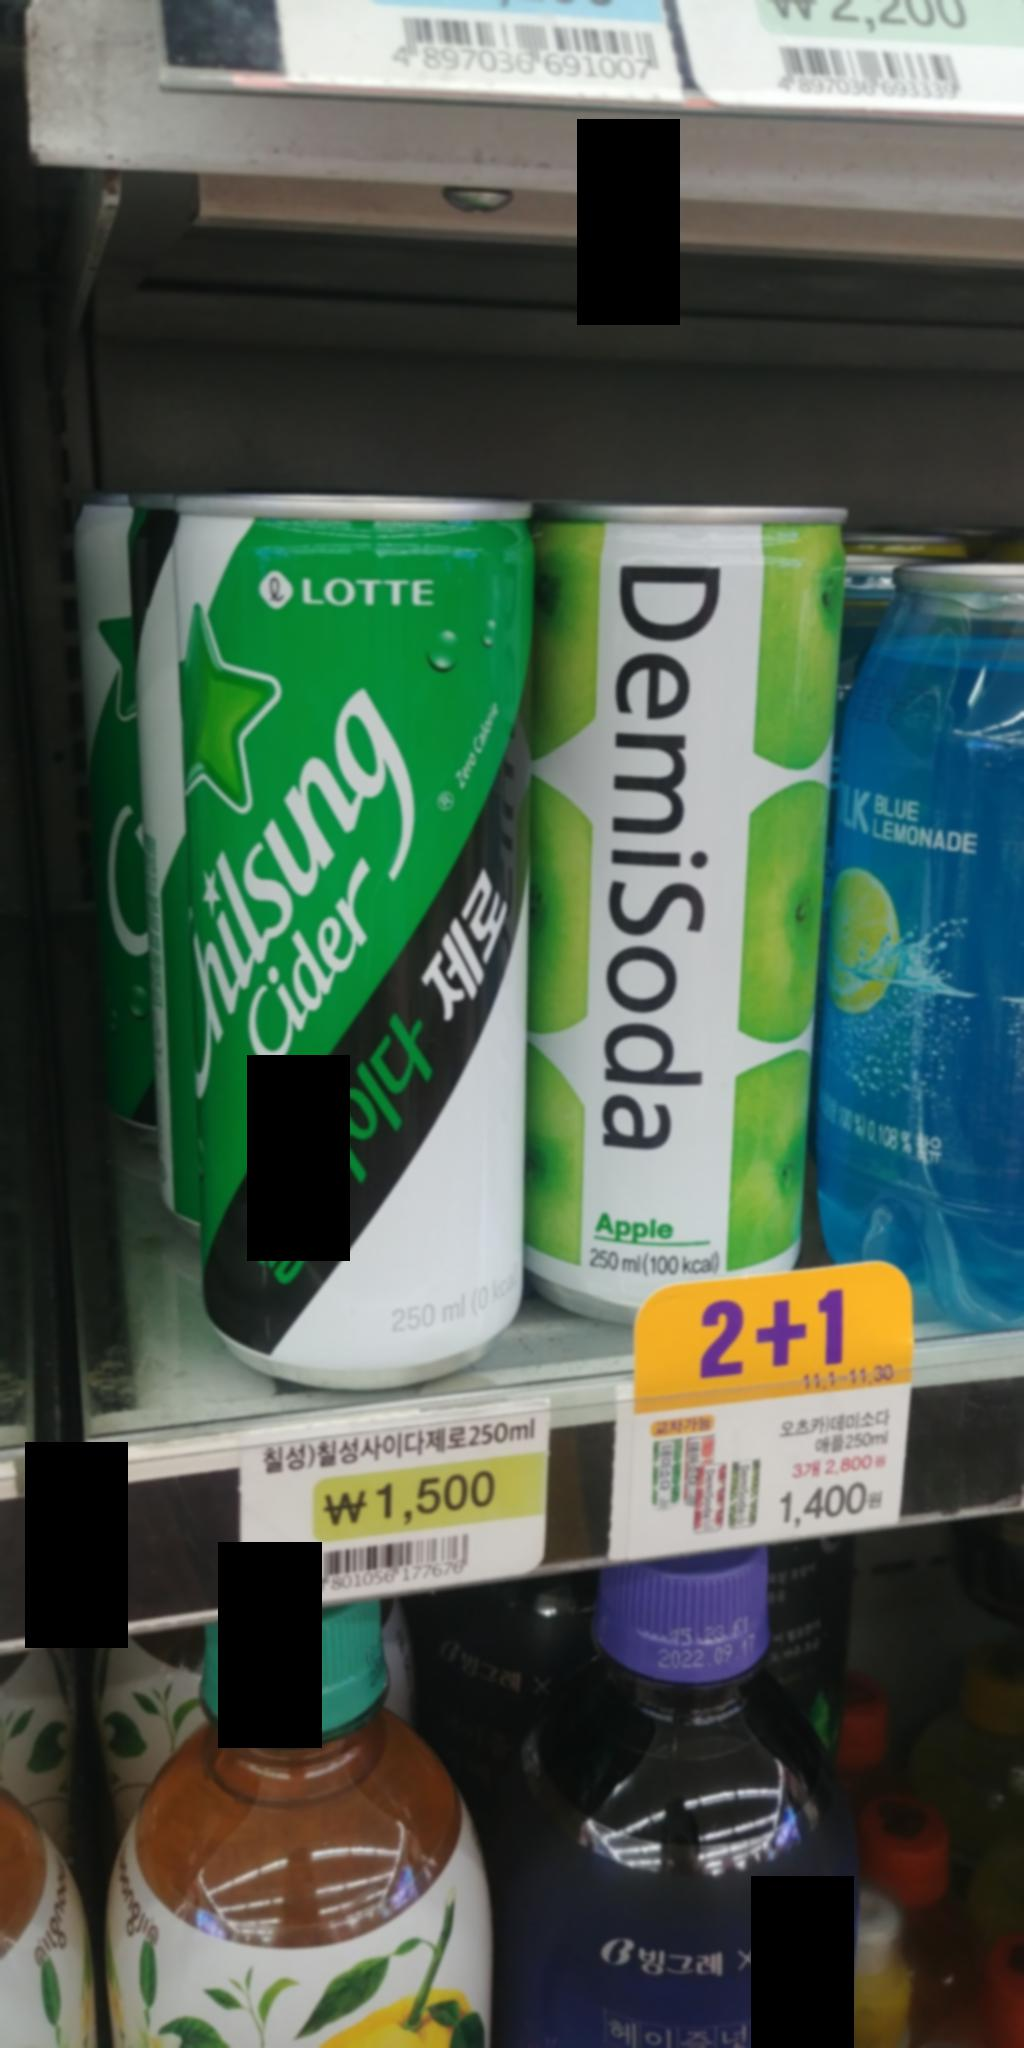chilsungcider_zero: (161, 478, 546, 1392)
